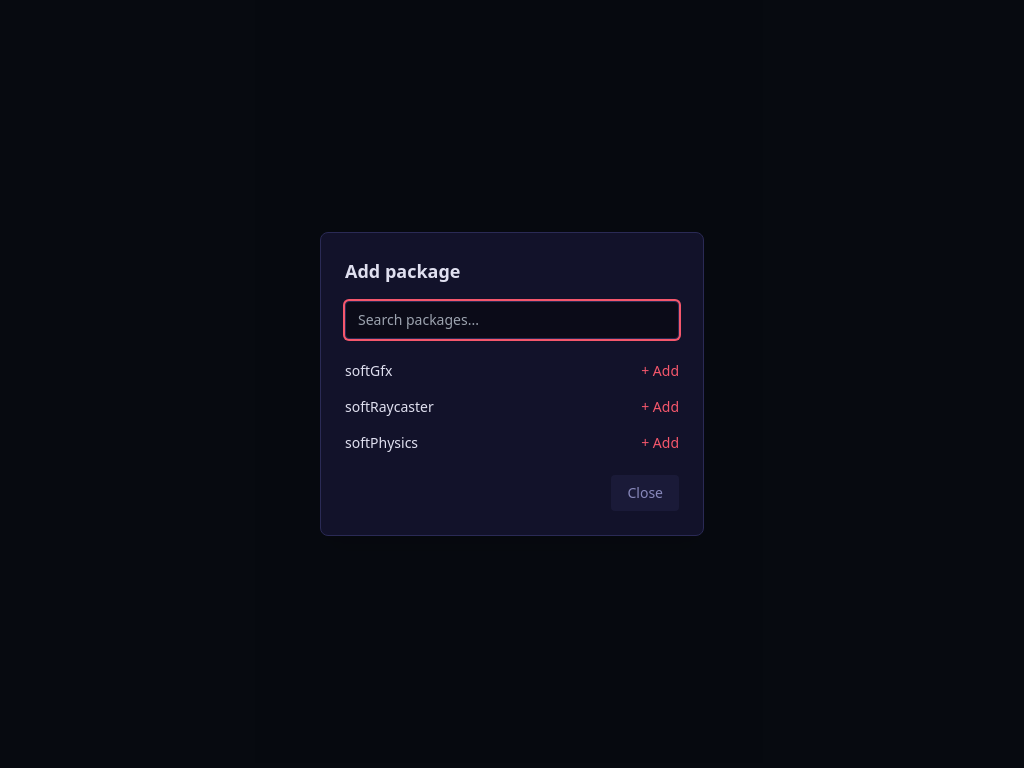
Test case: shows empty message when no packages match search
Type "zzznomatch" into the field with placeholder "Search packages...". click: (512, 320)
box: [345,301,679,339]
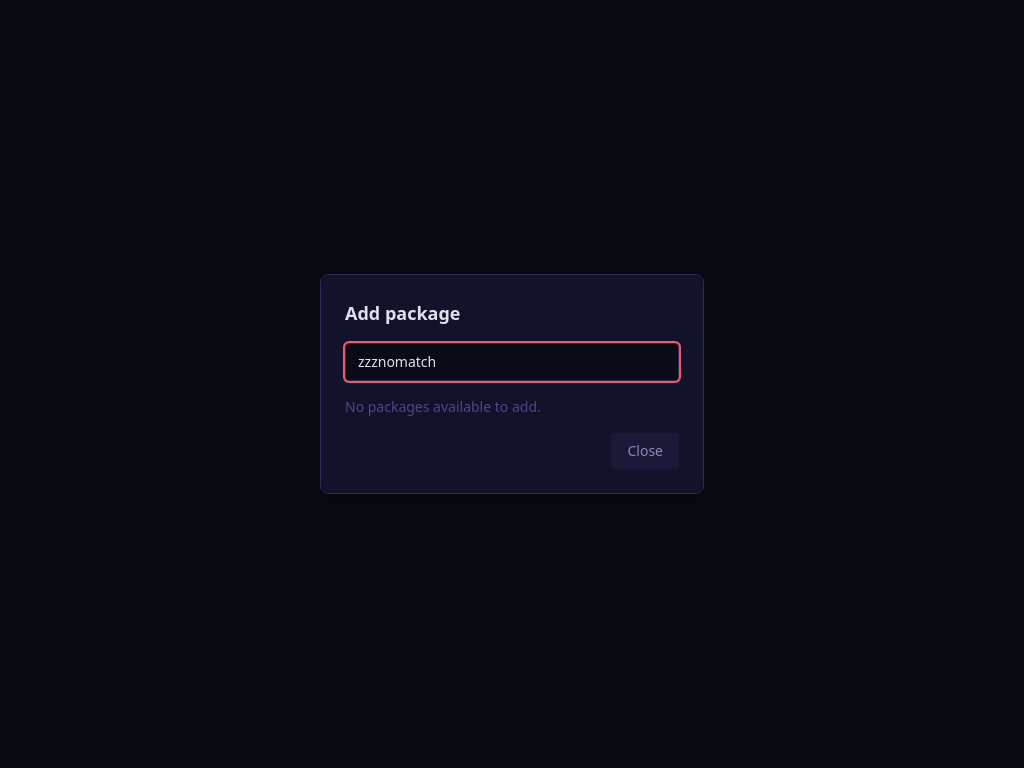
Result: the text "No packages available to add." is shown at [345,397,541,416]
